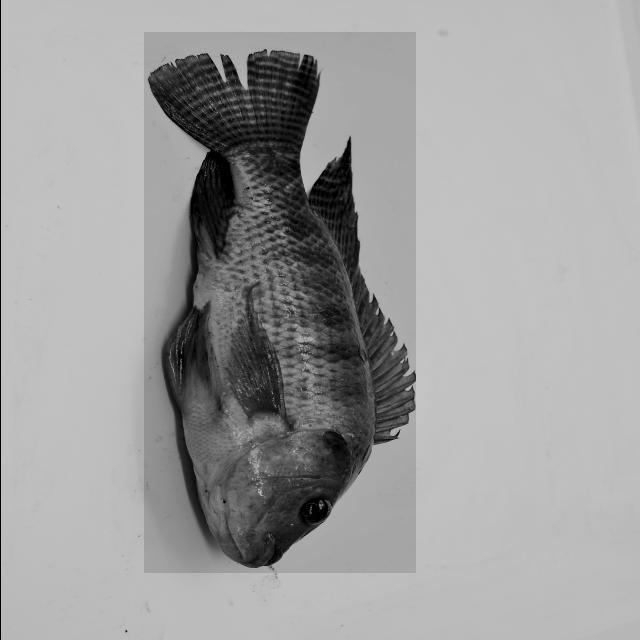Healthy Fish: (143, 32, 414, 573)
